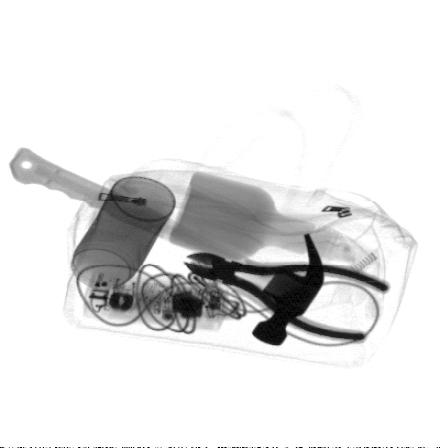Hammer: (10, 146, 327, 348)
Pliers: (182, 251, 392, 343)
